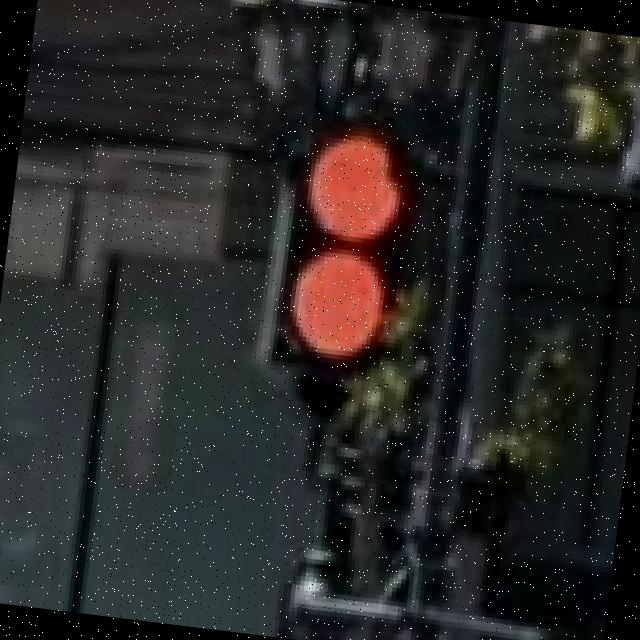Zolte swiatlo: (274, 107, 429, 385)
